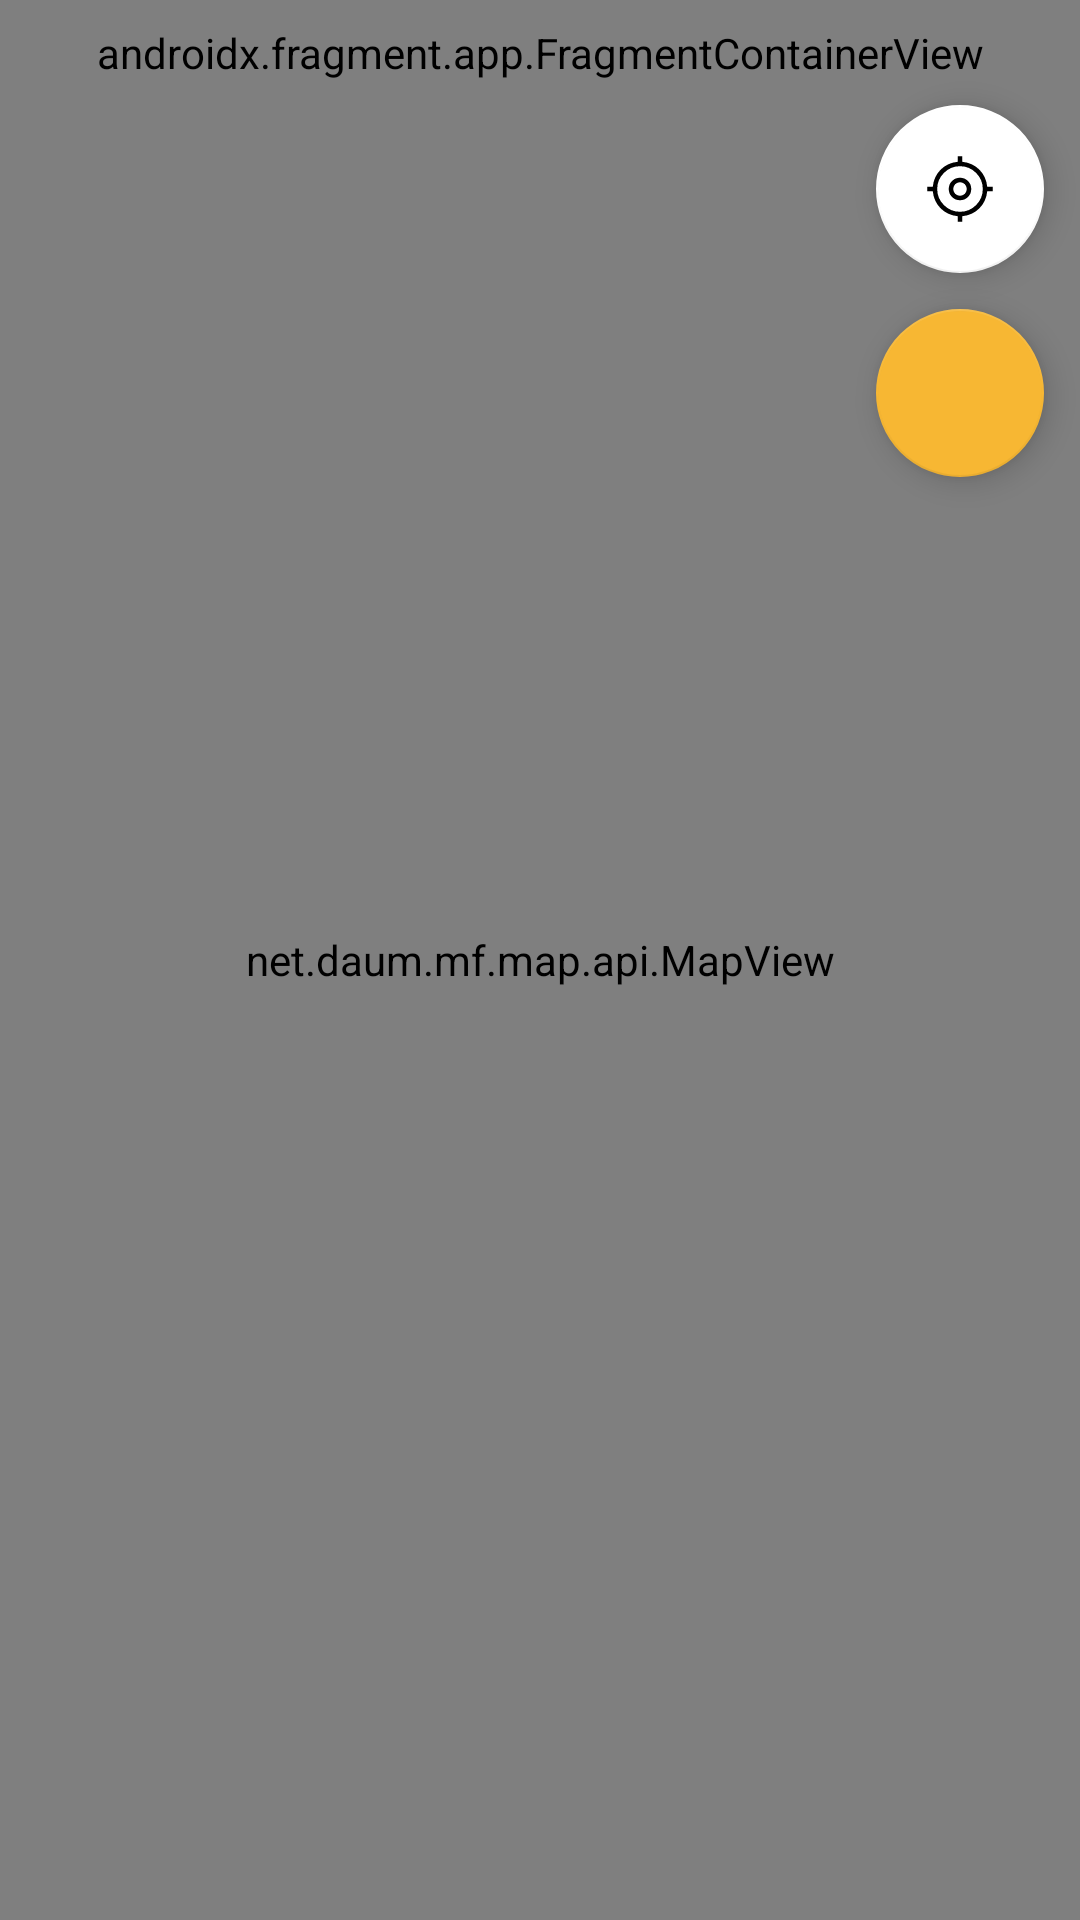

Icons on this 1080×1920 Android screen, each with the point to tap as [x,y]:
location: [960,189]
